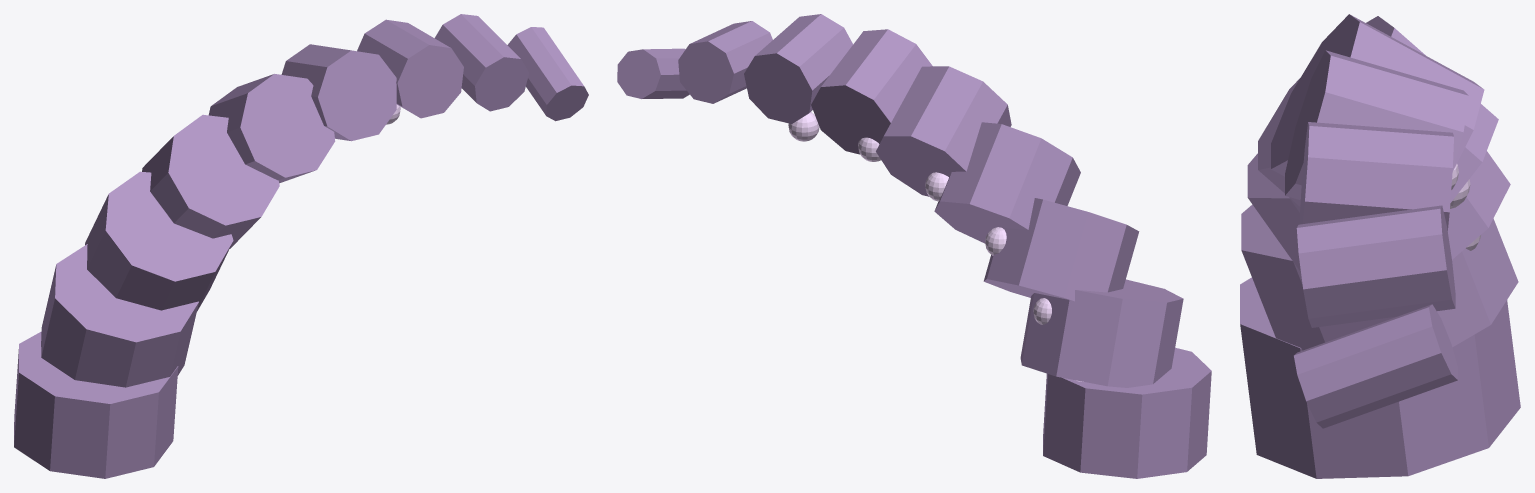
The model's file is tentacle.glb.
3 renders of one model, left to right at view 1: azimuth 30°, elevation 25°; view 2: azimuth 150°, elevation 25°; view 3: azimuth 270°, elevation 25°, orthographic. The views are drawn at different scales.
Visible parts, largest first — view 1: Seg0, Seg1, Seg2, Seg3, Seg4, Seg5, Seg6, Seg7, Seg8; view 2: Seg0, Seg1, Seg2, Seg3, Seg4, Seg5, Seg6, Seg7, Seg8, Suk5; view 3: Seg0, Seg7, Seg6, Seg8, Seg1, Seg5, Seg4, Seg2, Seg3.
Part boxes in pixels (x1,y1,x2,y2): Seg0: [14, 331, 178, 478]; Seg1: [41, 244, 198, 387]; Seg2: [85, 171, 233, 311]; Seg3: [142, 114, 279, 248]; Seg4: [208, 74, 335, 183]; Seg5: [281, 44, 396, 141]; Seg6: [357, 19, 463, 118]; Seg7: [435, 14, 529, 111]; Seg8: [507, 27, 588, 121]; Seg0: [1043, 348, 1211, 478]; Seg1: [1020, 279, 1183, 387]; Seg2: [983, 198, 1139, 301]; Seg3: [934, 122, 1080, 243]; Seg4: [876, 66, 1011, 196]; Seg5: [811, 29, 932, 154]; Seg6: [744, 14, 852, 123]; Seg7: [678, 21, 772, 103]; Seg8: [617, 48, 689, 98]; Suk5: [788, 112, 819, 141]; Seg0: [1240, 277, 1520, 478]; Seg7: [1296, 205, 1455, 327]; Seg6: [1299, 122, 1453, 230]; Seg8: [1294, 304, 1457, 428]; Seg1: [1241, 204, 1518, 350]; Seg5: [1285, 50, 1468, 199]; Seg4: [1271, 14, 1484, 176]; Seg2: [1247, 151, 1510, 271]; Seg3: [1258, 16, 1498, 206].
Bounding box in the file's own units: 1.15 × 0.698 × 0.3072.
